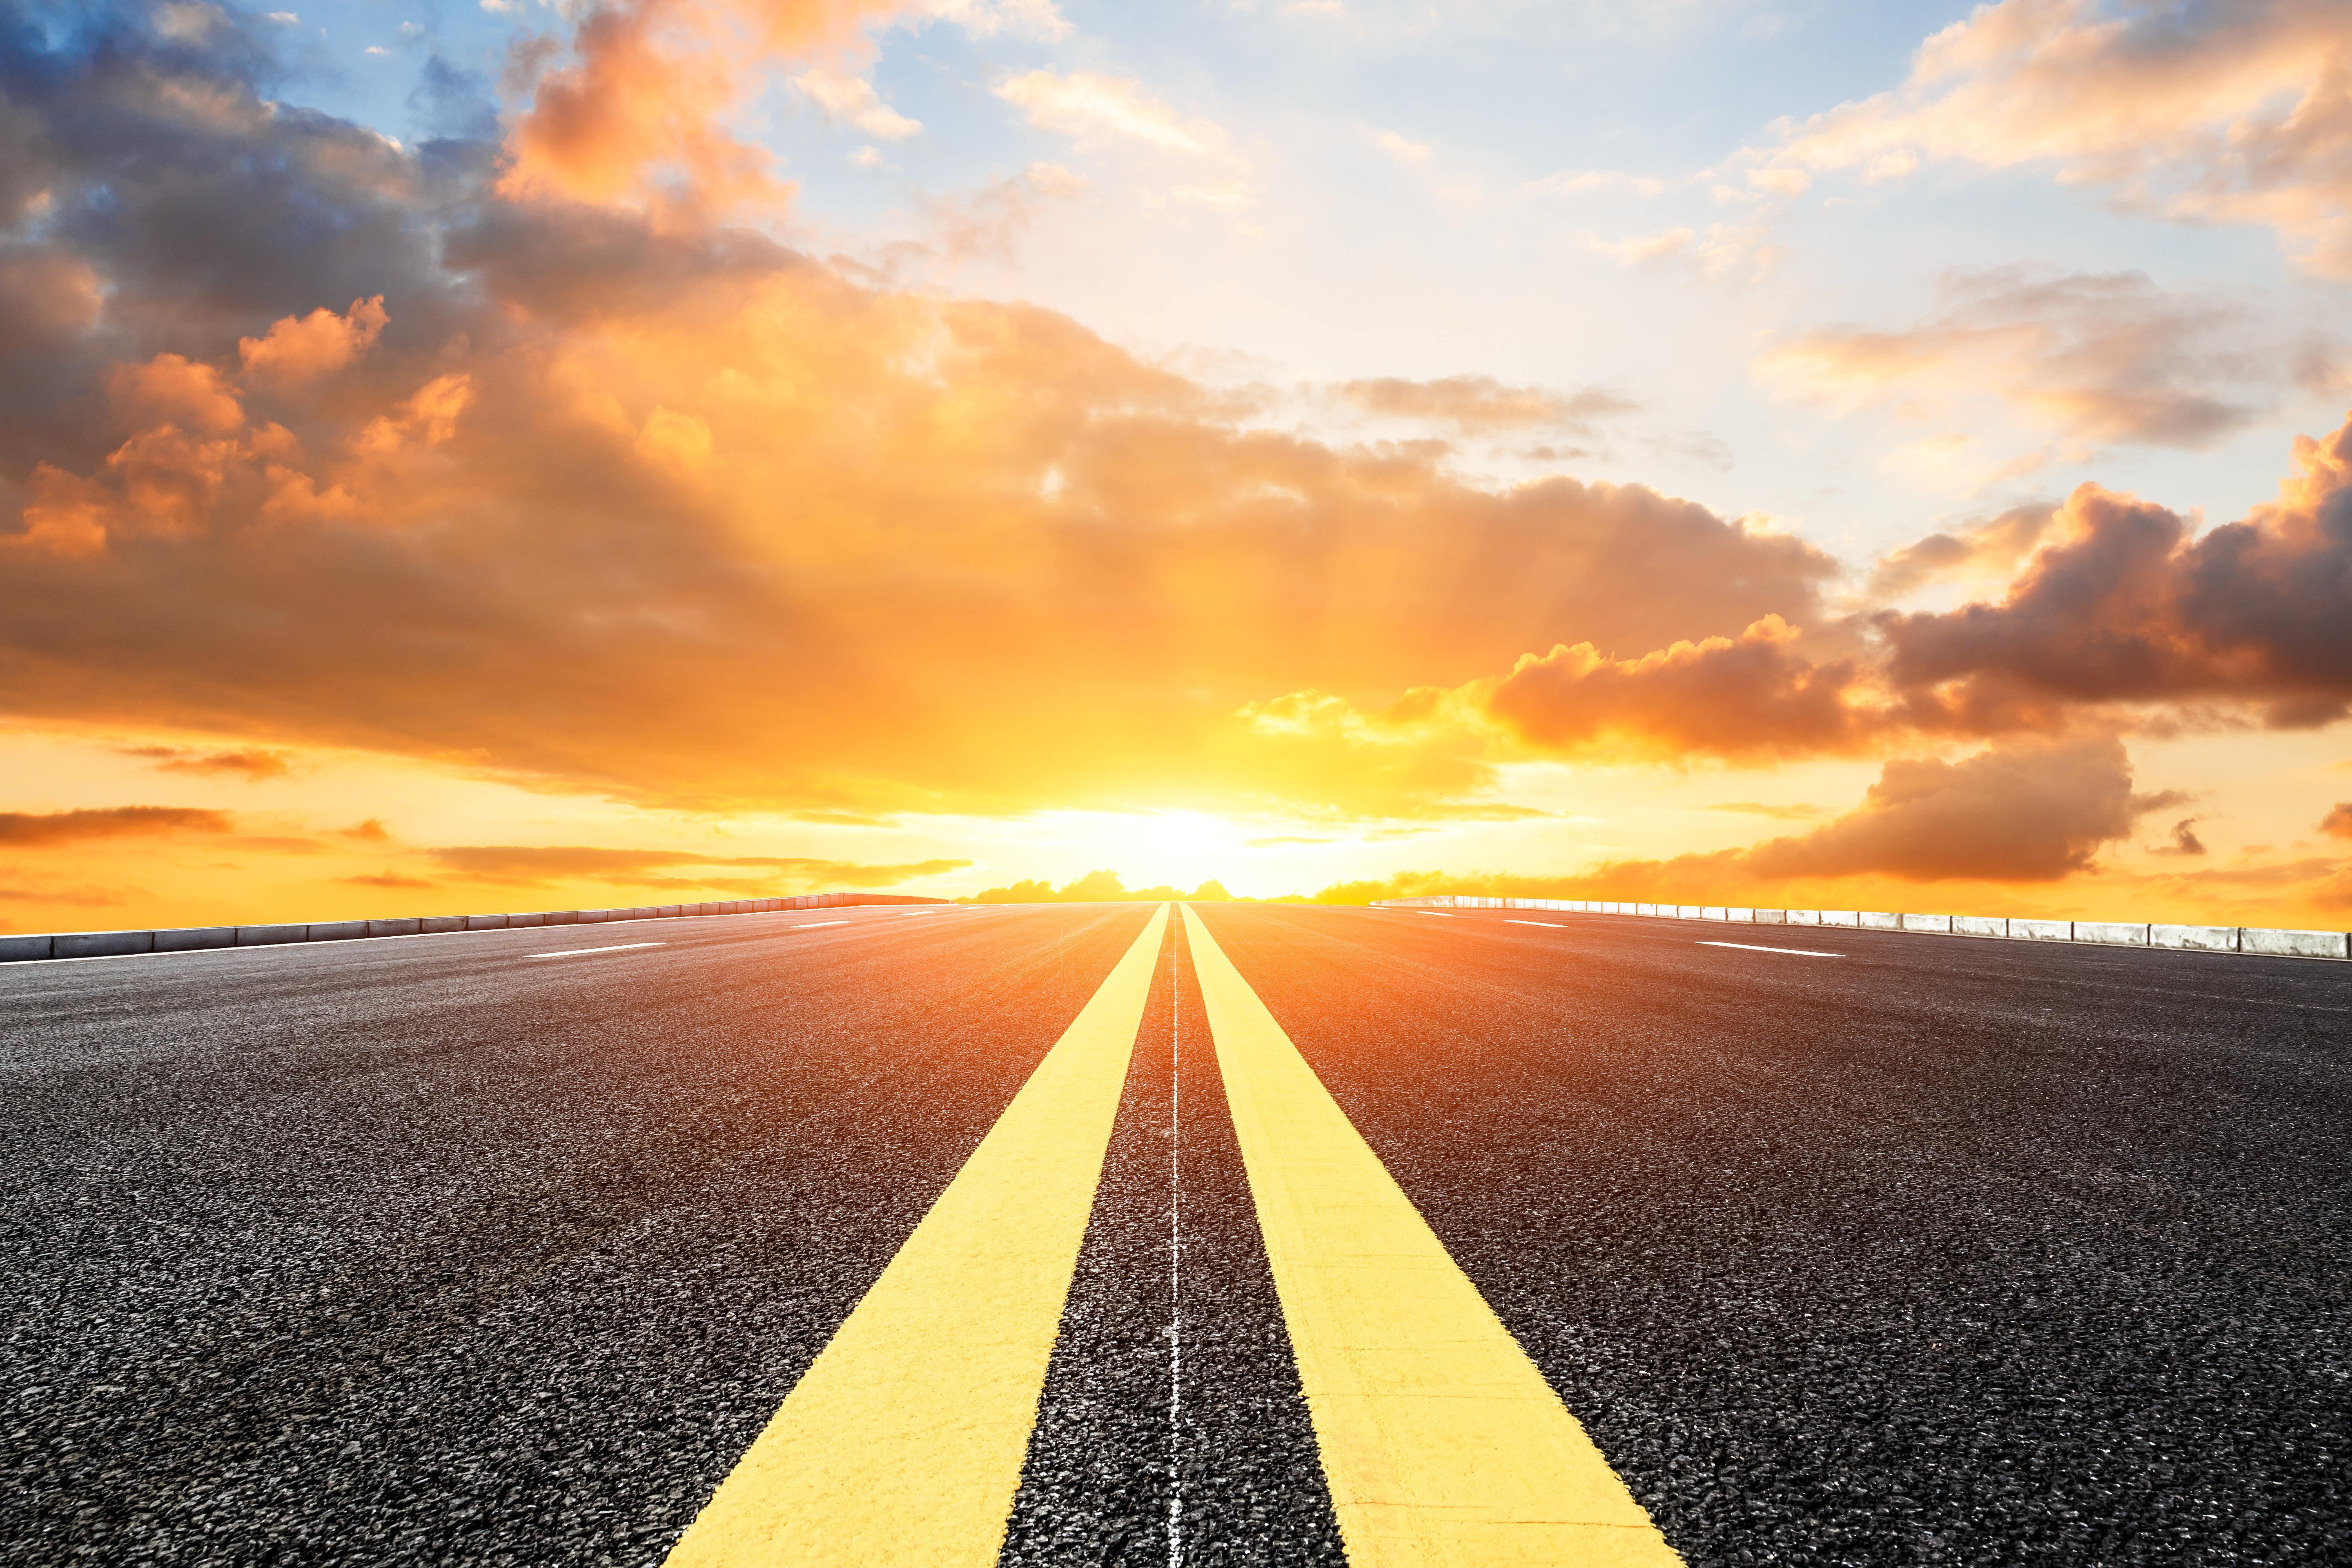light: (801, 630, 1549, 924)
